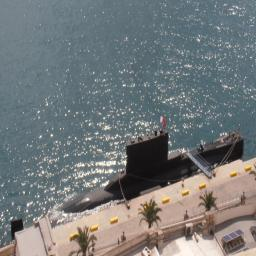submarine: (58, 129, 244, 213)
